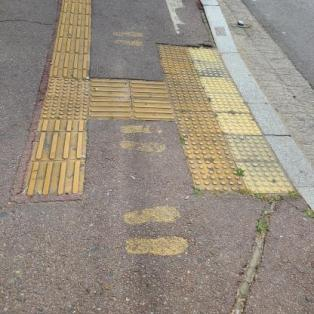Podoctatil: (156, 29, 304, 201), (20, 1, 96, 199), (97, 76, 178, 122)
